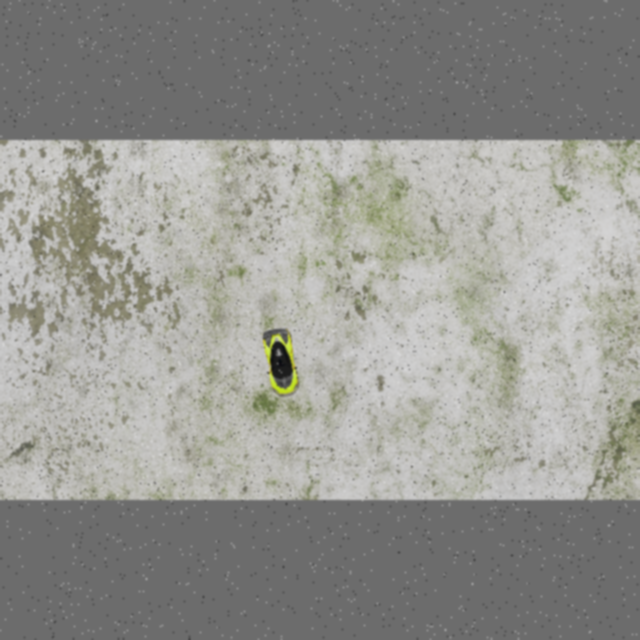car: (258, 326, 301, 398)
